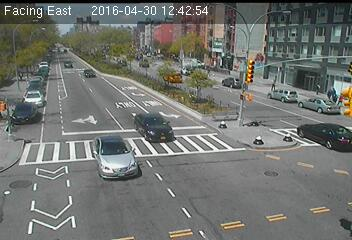neg: (119, 117, 138, 142), (7, 129, 24, 152), (188, 144, 204, 166), (163, 26, 179, 47), (8, 73, 24, 94), (200, 107, 216, 127), (293, 156, 308, 175), (248, 178, 262, 198), (157, 78, 171, 97), (288, 119, 302, 137), (68, 165, 81, 183), (235, 147, 248, 164), (188, 45, 201, 62), (130, 78, 143, 95), (142, 156, 154, 173), (221, 114, 233, 130), (33, 124, 45, 140), (125, 55, 137, 71), (65, 43, 77, 59), (192, 73, 203, 89), (245, 116, 256, 131), (158, 115, 169, 129), (55, 93, 65, 107), (82, 72, 92, 85), (47, 41, 57, 54), (267, 127, 276, 139), (102, 64, 111, 76), (87, 102, 95, 112), (86, 40, 92, 49), (113, 36, 118, 43)
pos: (326, 85, 341, 105), (335, 90, 348, 107), (314, 82, 324, 96), (268, 78, 278, 92)
